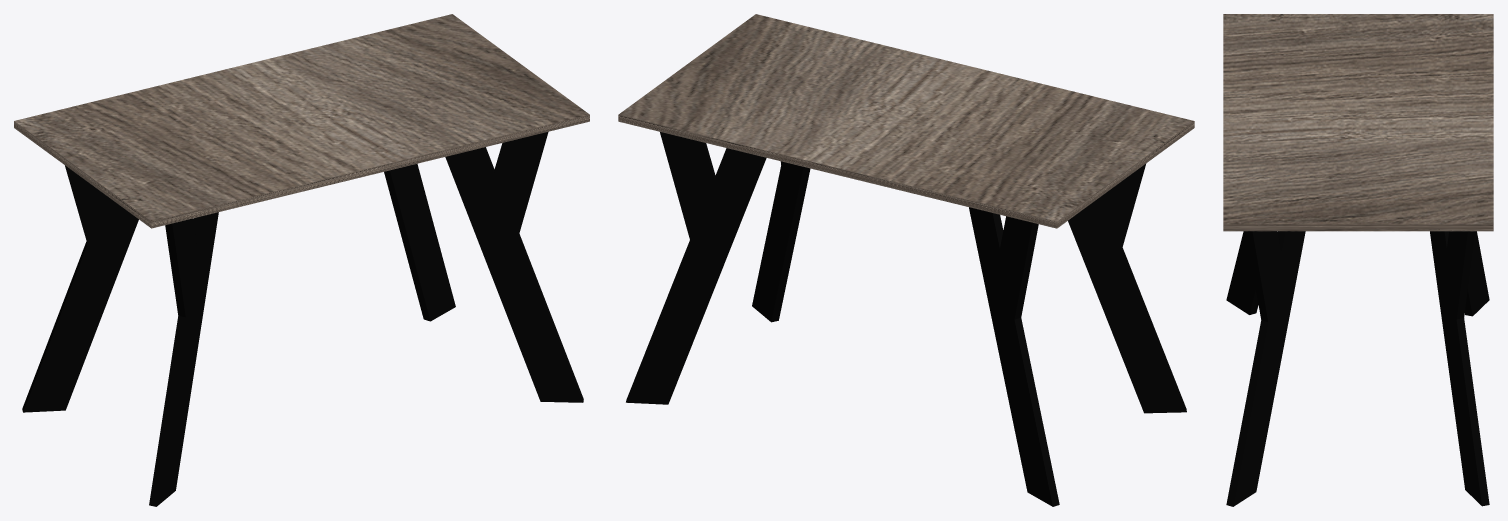
File: ishlapalena.glb
3 renders of one model, left to right at view 1: azimuth 30°, elevation 25°; view 2: azimuth 150°, elevation 25°; view 3: azimuth 270°, elevation 25°, orthographic.
Visible parts, largest first — view 1: TableTop 120x65 Straight, IshlaLeg1, IshlaLeg4, IshlaLeg3, IshlaLeg2; view 2: TableTop 120x65 Straight, IshlaLeg2, IshlaLeg3, IshlaLeg4, IshlaLeg1; view 3: TableTop 120x65 Straight, IshlaLeg1, IshlaLeg2, IshlaLeg3, IshlaLeg4.
Part boxes in pixels (left/top/right/bottom): TableTop 120x65 Straight: left=14, top=14, right=589, bottom=228; IshlaLeg1: left=445, top=131, right=583, bottom=402; IshlaLeg4: left=22, top=165, right=138, bottom=412; IshlaLeg3: left=149, top=212, right=218, bottom=506; IshlaLeg2: left=384, top=163, right=455, bottom=321; TableTop 120x65 Straight: left=618, top=14, right=1194, bottom=228; IshlaLeg2: left=626, top=132, right=766, bottom=404; IshlaLeg3: left=1068, top=163, right=1186, bottom=413; IshlaLeg4: left=969, top=207, right=1059, bottom=506; IshlaLeg1: left=752, top=161, right=810, bottom=322; TableTop 120x65 Straight: left=1223, top=14, right=1493, bottom=231; IshlaLeg1: left=1226, top=231, right=1305, bottom=506; IshlaLeg2: left=1430, top=231, right=1489, bottom=506; IshlaLeg3: left=1226, top=231, right=1258, bottom=314; IshlaLeg4: left=1465, top=231, right=1489, bottom=316.
Size of the model in its own units: 1.2 by 0.7528 by 0.6507.
Materials: 2 (1 with a texture image).
